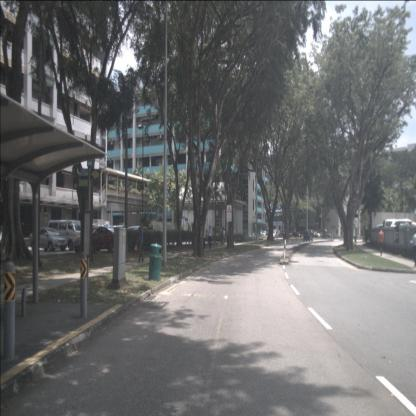human-pedestrian-adult: (134, 220, 144, 263), (410, 229, 416, 268), (378, 227, 384, 256), (207, 224, 213, 249), (202, 224, 206, 249), (186, 224, 190, 245), (232, 227, 235, 242), (223, 228, 225, 243)
vehicle-car: (47, 219, 86, 252), (74, 226, 118, 254), (29, 226, 67, 253), (382, 219, 416, 241), (90, 219, 104, 230), (304, 231, 314, 242), (280, 229, 292, 238), (271, 229, 280, 240), (320, 229, 331, 238), (292, 231, 302, 239), (312, 231, 321, 238), (262, 230, 267, 238)
